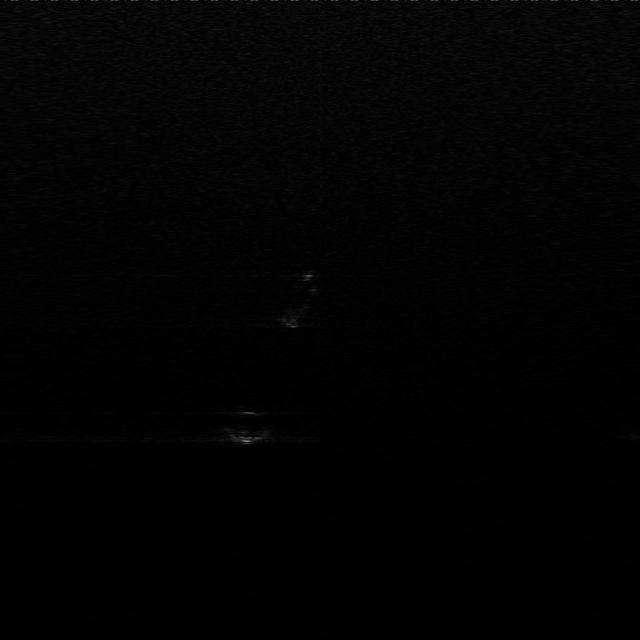ball: (218, 402, 274, 446)
tyre: (266, 270, 330, 330)
